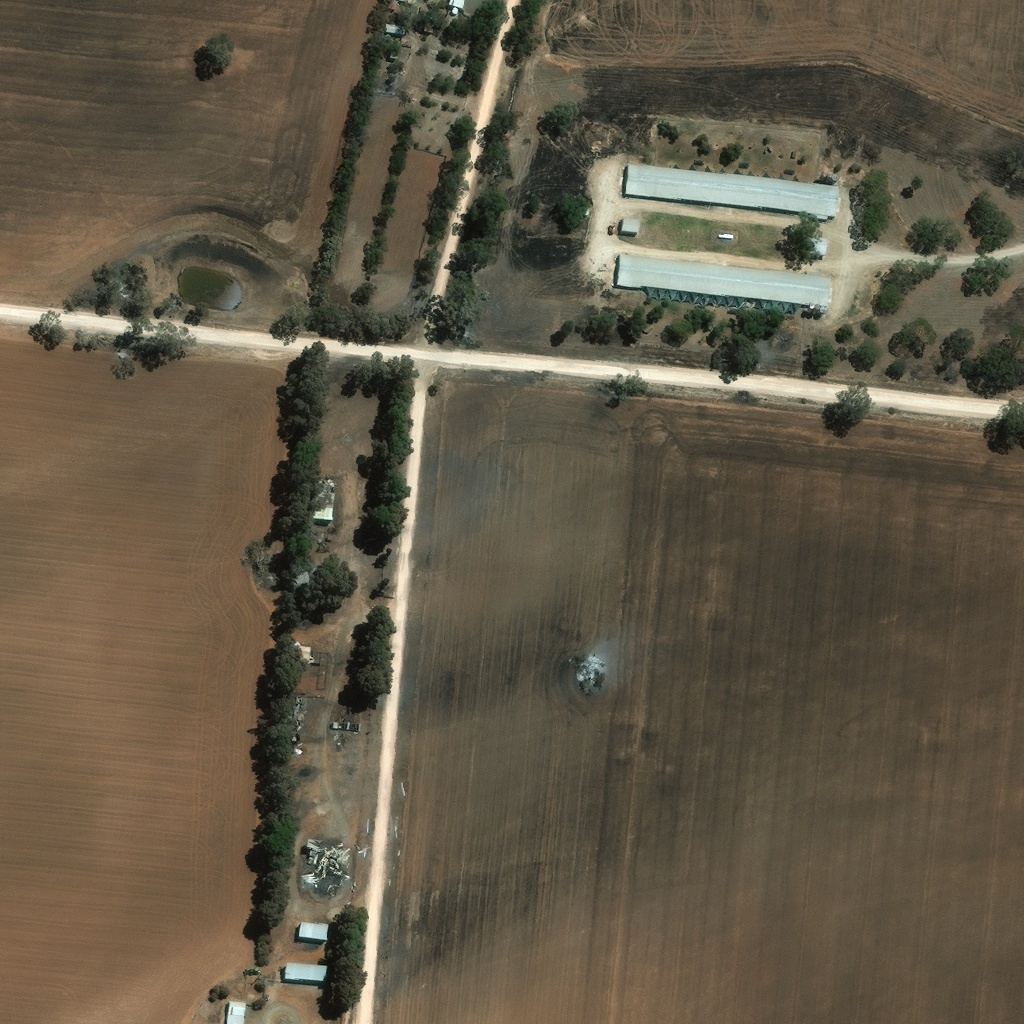0 no-damage: (625, 160, 843, 215), (616, 252, 833, 305), (308, 472, 340, 520), (284, 964, 330, 983), (298, 923, 330, 941), (812, 232, 829, 252), (622, 215, 642, 230), (387, 20, 402, 29), (719, 228, 736, 235), (391, 47, 400, 55), (454, 4, 460, 10)
1 minor-damage: (289, 643, 314, 660)
3 destroyed: (302, 839, 345, 892), (282, 689, 307, 739), (333, 719, 339, 725)
4 un-classified: (424, 4, 446, 29), (226, 1000, 247, 1023), (334, 458, 345, 468)
